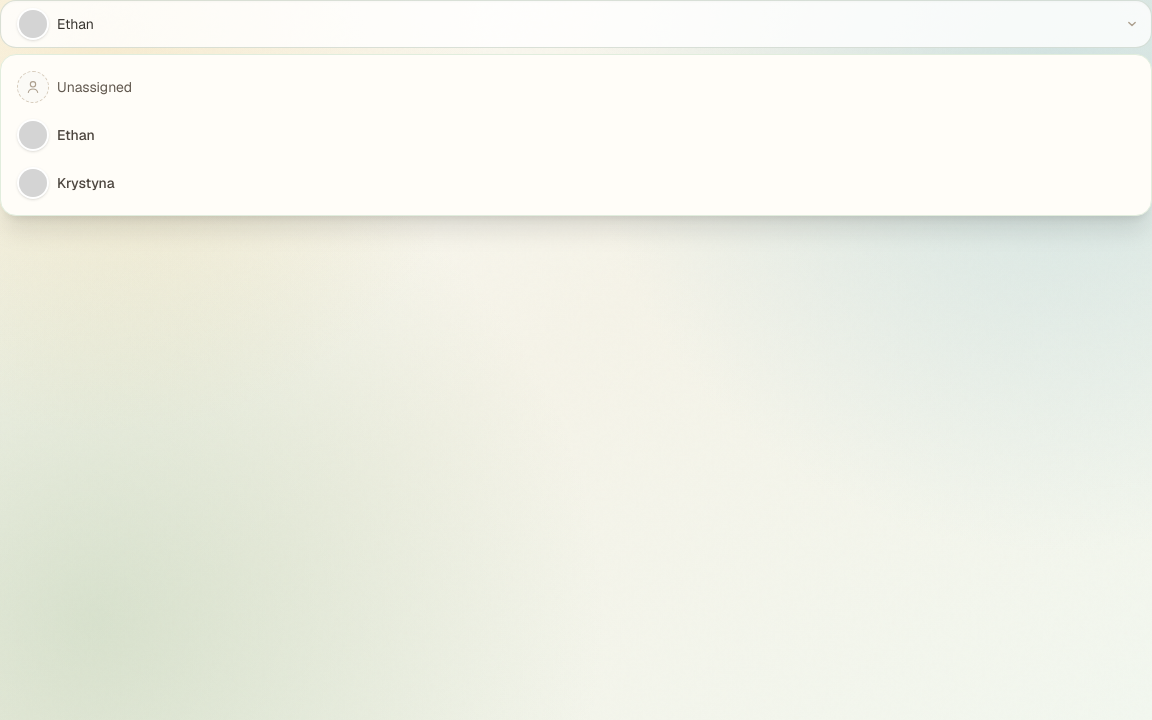
AssigneePicker › keeps the optimistic assignee when the save succeeds
The width and height of the screenshot is (1152, 720).
Click the button "Krystyna" at (33, 183), box left=9, top=159, right=1143, bottom=207
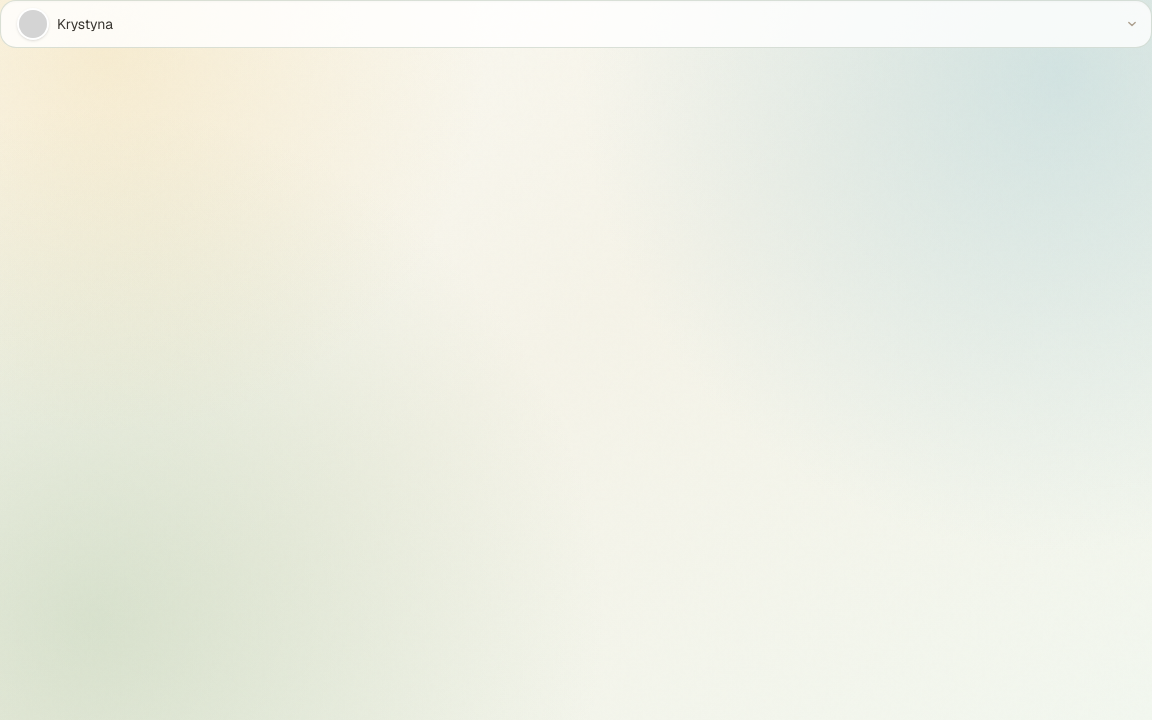
Now the text "Krystyna" is shown, box left=57, top=15, right=113, bottom=33
